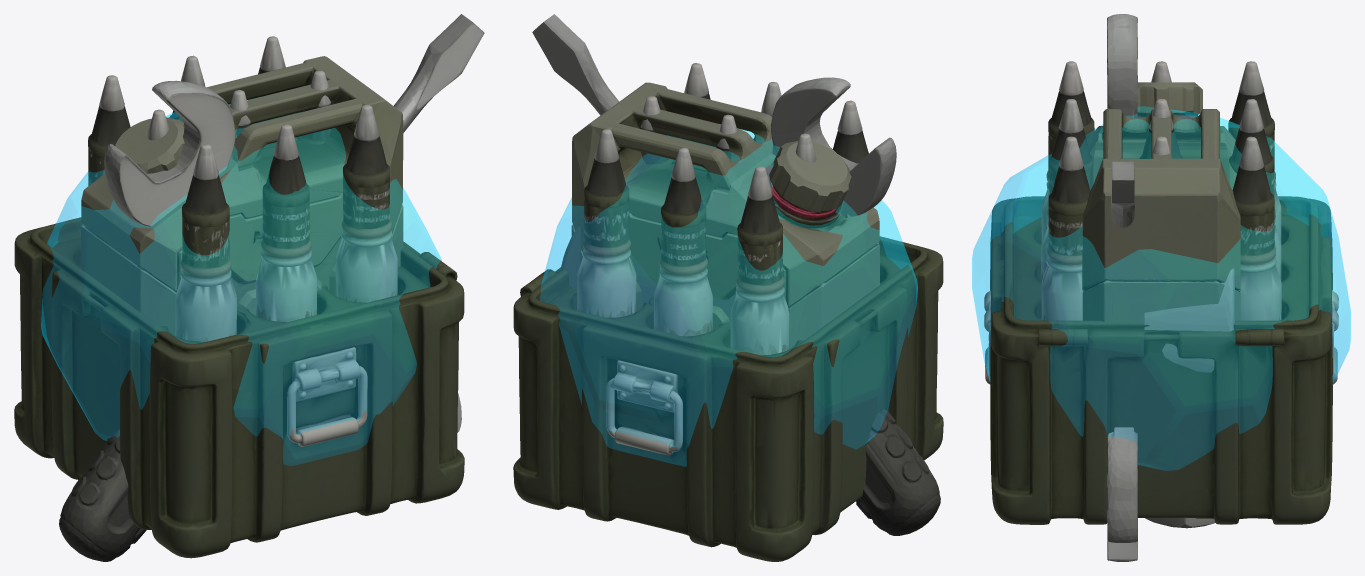
File: power-ups.glb
3 views of the same model, side by side, from view 1: azimuth 30°, elevation 25°; view 2: azimuth 150°, elevation 25°; view 3: azimuth 270°, elevation 25° (orthographic). The views are drawn at different scales.
Visible parts, largest first — view 1: mesh_ammo_shell, mesh_shield, mesh_fuel, mesh_repair; view 2: mesh_ammo_shell, mesh_shield, mesh_fuel, mesh_repair; view 3: mesh_ammo_shell, mesh_shield, mesh_fuel, mesh_repair.
Part boxes in pixels (x1=…): mesh_ammo_shell: x1=14, y1=36, x2=464, y2=558; mesh_shield: x1=41, y1=112, x2=441, y2=465; mesh_fuel: x1=81, y1=56, x2=403, y2=335; mesh_repair: x1=59, y1=14, x2=484, y2=561; mesh_ammo_shell: x1=513, y1=63, x2=943, y2=561; mesh_shield: x1=540, y1=129, x2=917, y2=466; mesh_fuel: x1=571, y1=82, x2=879, y2=349; mesh_repair: x1=532, y1=14, x2=940, y2=535; mesh_ammo_shell: x1=984, y1=61, x2=1338, y2=524; mesh_shield: x1=972, y1=106, x2=1350, y2=470; mesh_fuel: x1=1082, y1=82, x2=1240, y2=518; mesh_repair: x1=1107, y1=14, x2=1234, y2=561.
Size of the model in its own units: 0.5156 by 0.54 by 0.4228.
4 materials, 3 textured.
